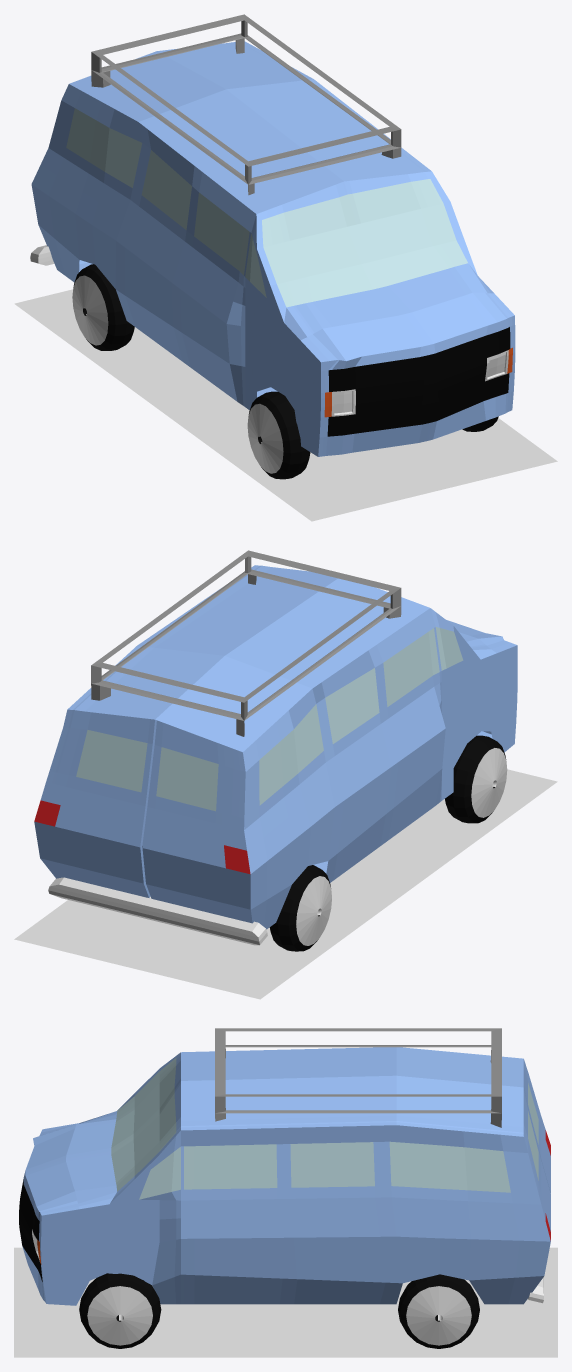
The model's file is engelminibus.fbx.
The picture shows the model from 3 angles, top to bottom: view 1: azimuth 30°, elevation 25°; view 2: azimuth 150°, elevation 25°; view 3: azimuth 270°, elevation 25°; orthographic projection. The views are drawn at different scales.
Parts seen in each view (by area): view 1: Cube.001, Plane, Torus.007, Torus; view 2: Cube.001, Plane, Torus.007, Torus; view 3: Cube.001, Plane, Torus.005, Torus.006.
Boxes of the visible parts, box(x1,y1,x2,y2) form: Cube.001: box(30, 14, 515, 456); Plane: box(14, 289, 557, 521); Torus.007: box(247, 391, 310, 479); Torus: box(72, 264, 134, 350); Cube.001: box(34, 550, 517, 945); Plane: box(14, 769, 557, 999); Torus.007: box(445, 735, 507, 823); Torus: box(269, 865, 331, 951); Cube.001: box(19, 1028, 550, 1305); Plane: box(14, 1247, 557, 1357); Torus.005: box(79, 1273, 161, 1348); Torus.006: box(398, 1274, 479, 1348).
Size of the model in its own units: 299 by 308 by 626.
